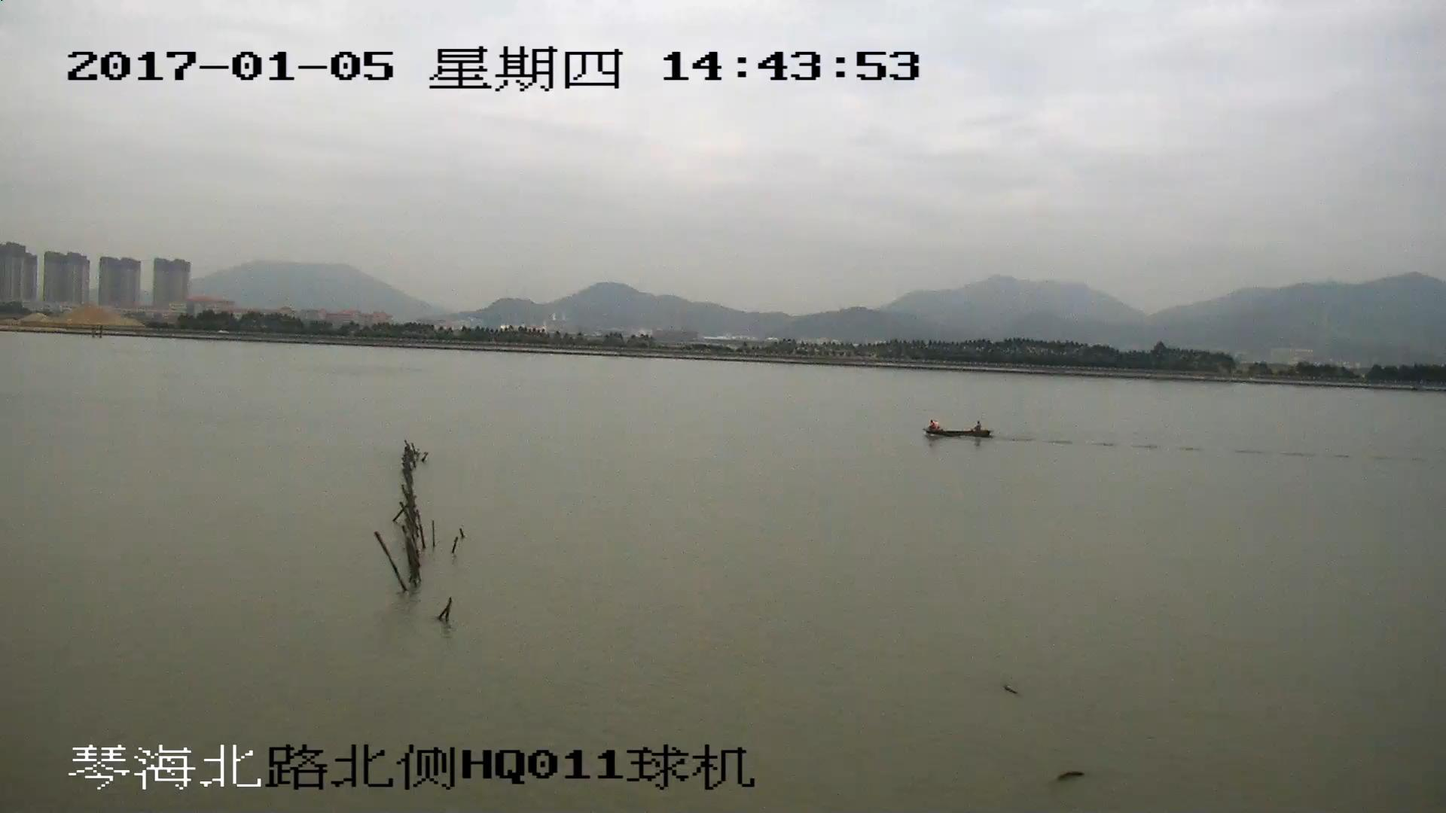fishing boat: (926, 417, 995, 440)
